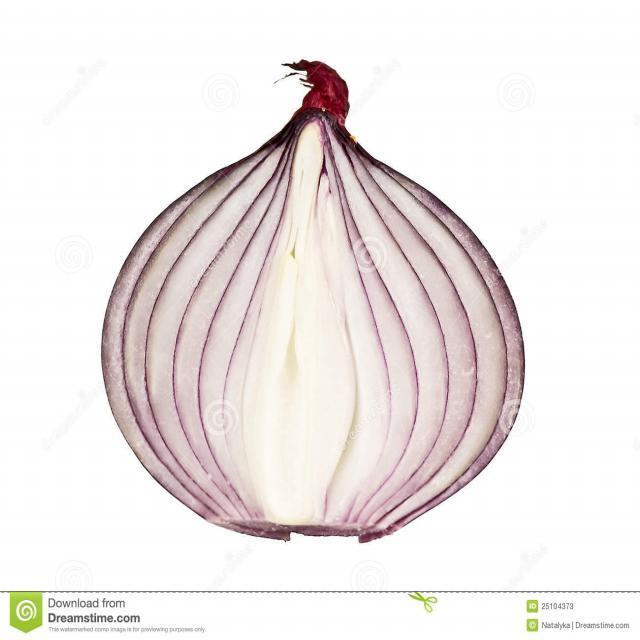onion: (98, 58, 529, 543)
